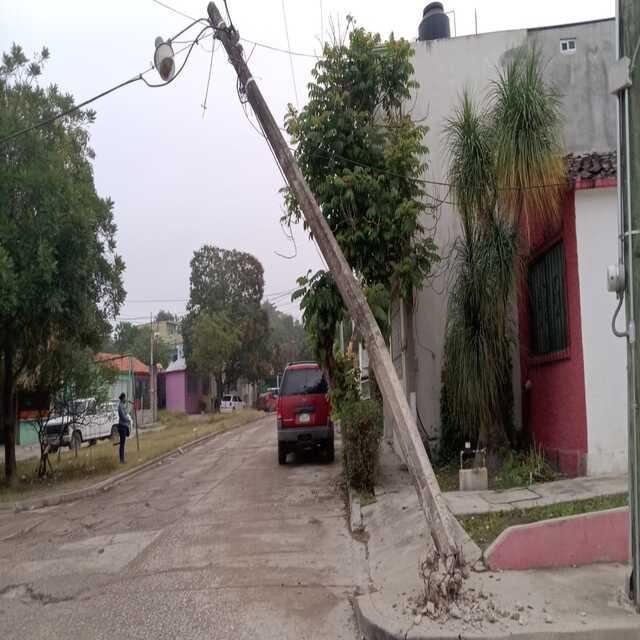Inclined Pole: (147, 0, 467, 613)
